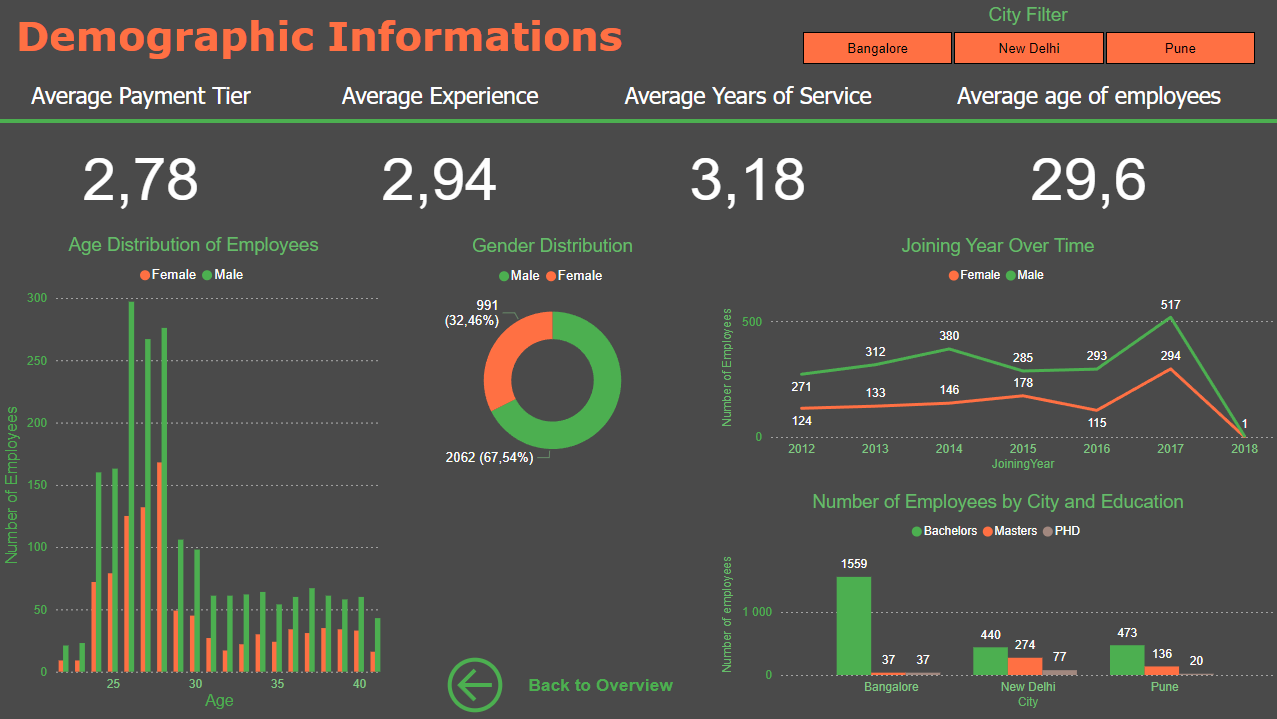

The dashboard page shown, as its layout file describes it:
{"tool":"powerbi","page":{"name":"Demographic informations","canvas":[1280,720],"ordinal":2},"visuals":[{"type":"actionButton","box":[441.8,651.6,242.7,68.4],"z":0},{"type":"clusteredColumnChart","title":"Age Distribution of Employees","fields":{"Category":["Employee.Age"],"Y":["CountNonNull(Employee.Age)"],"Series":["Employee.Gender"]},"box":[0,224.9,389.3,495.1],"z":1000},{"type":"donutChart","title":"Gender Distribution","fields":{"Category":["Employee.Gender"],"Y":["CountNonNull(Employee.ID)"]},"box":[389.3,225.8,328.9,256],"z":2000},{"type":"clusteredColumnChart","title":"Number of Employees by City and Education","fields":{"Category":["Employee.City"],"Series":["Employee.Education"],"Y":["CountNonNull(Employee.ID)"]},"box":[718.2,481.8,561.8,238.2],"z":3000},{"type":"card","title":"Average age of employees","fields":{"Values":["Avg(Employee.Age)"]},"box":[899.6,72,380.4,153.8],"z":4000},{"type":"card","title":"Average Years of Service","fields":{"Values":["Employee.AverageYearsOfService"]},"box":[598.2,72,301.3,153.8],"z":5000},{"type":"card","title":"Average Payment Tier","fields":{"Values":["Employee.AveragePaymentTier"]},"box":[0,72,283.6,153.8],"z":6000},{"type":"card","title":"Average Experience ","fields":{"Values":["Avg(Employee.ExperienceInCurrentDomain)"]},"box":[283.6,72,314.7,153.8],"z":7000},{"type":"lineChart","title":"Joining Year Over Time","fields":{"Category":["Employee.JoiningYear"],"Y":["CountNonNull(Employee.ID)"],"Series":["Employee.Gender"]},"box":[718.2,225.8,561.8,256],"z":8000},{"type":"shape","title":"jghj","box":[0,0,640,72],"z":9000},{"type":"slicer","title":"City Filter","fields":{"Values":["Employee.City"]},"box":[777.8,0,502.2,72],"z":10000}]}

Visuals, with their boxes in screenshot pixels (x1, y1, x2, y2), scaled from the page's 1280x720 canvas onto the 1277x719 screenshot:
actionButton: <bbox>441, 651, 683, 718</bbox>
"Age Distribution of Employees" clusteredColumnChart: <bbox>0, 225, 388, 718</bbox>
"Gender Distribution" donutChart: <bbox>388, 225, 717, 481</bbox>
"Number of Employees by City and Education" clusteredColumnChart: <bbox>717, 481, 1276, 718</bbox>
"Average age of employees" card: <bbox>897, 72, 1276, 225</bbox>
"Average Years of Service" card: <bbox>597, 72, 897, 225</bbox>
"Average Payment Tier" card: <bbox>0, 72, 283, 225</bbox>
"Average Experience " card: <bbox>283, 72, 597, 225</bbox>
"Joining Year Over Time" lineChart: <bbox>717, 225, 1276, 481</bbox>
"jghj" shape: <bbox>0, 0, 638, 72</bbox>
"City Filter" slicer: <bbox>776, 0, 1276, 72</bbox>
